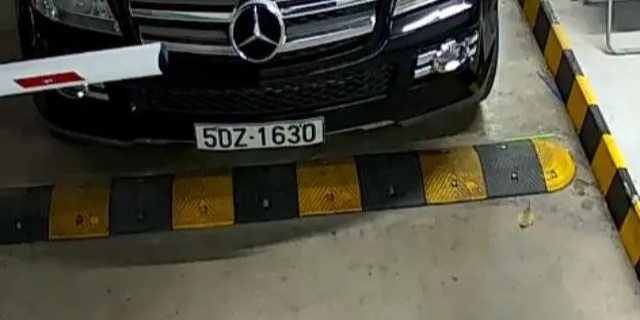bien_so: (196, 123, 326, 150)
